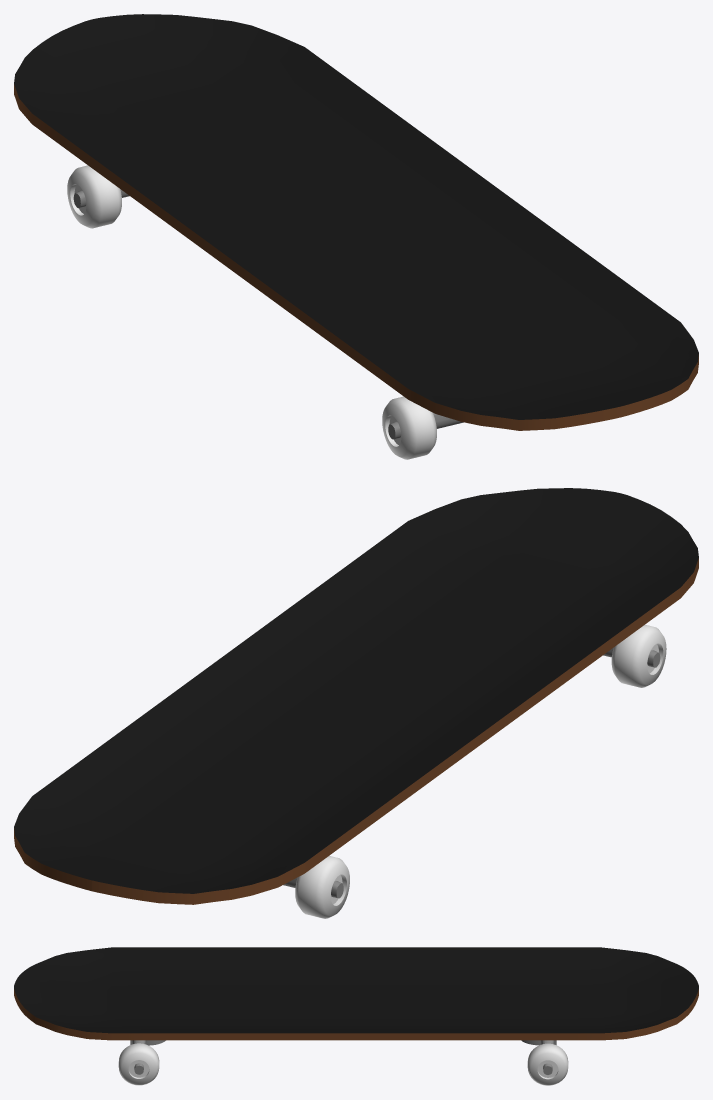
The model's file is vans.glb.
3 views of the same model, one above another, from view 1: azimuth 30°, elevation 25°; view 2: azimuth 150°, elevation 25°; view 3: azimuth 270°, elevation 25° (orthographic). The views are drawn at different scales.
Visible parts, largest first — view 1: Plane, Cylinder.004, Cylinder.006; view 2: Plane, Cylinder.004, Cylinder.006; view 3: Plane, Cylinder.005, Cylinder.002, Cylinder.003, Cylinder.001.
Boxes of the visible parts, <box> form: Plane: <box>14,14,698,430</box>; Cylinder.004: <box>382,396,436,459</box>; Cylinder.006: <box>67,165,121,228</box>; Plane: <box>14,488,698,904</box>; Cylinder.004: <box>611,624,666,687</box>; Cylinder.006: <box>295,855,349,918</box>; Plane: <box>14,947,698,1040</box>; Cylinder.005: <box>118,1043,159,1085</box>; Cylinder.002: <box>527,1043,568,1085</box>; Cylinder.003: <box>130,1040,165,1074</box>; Cylinder.001: <box>521,1040,556,1074</box>.
Bounding box in the file's own units: 0.7976 × 0.2565 × 2.68.
